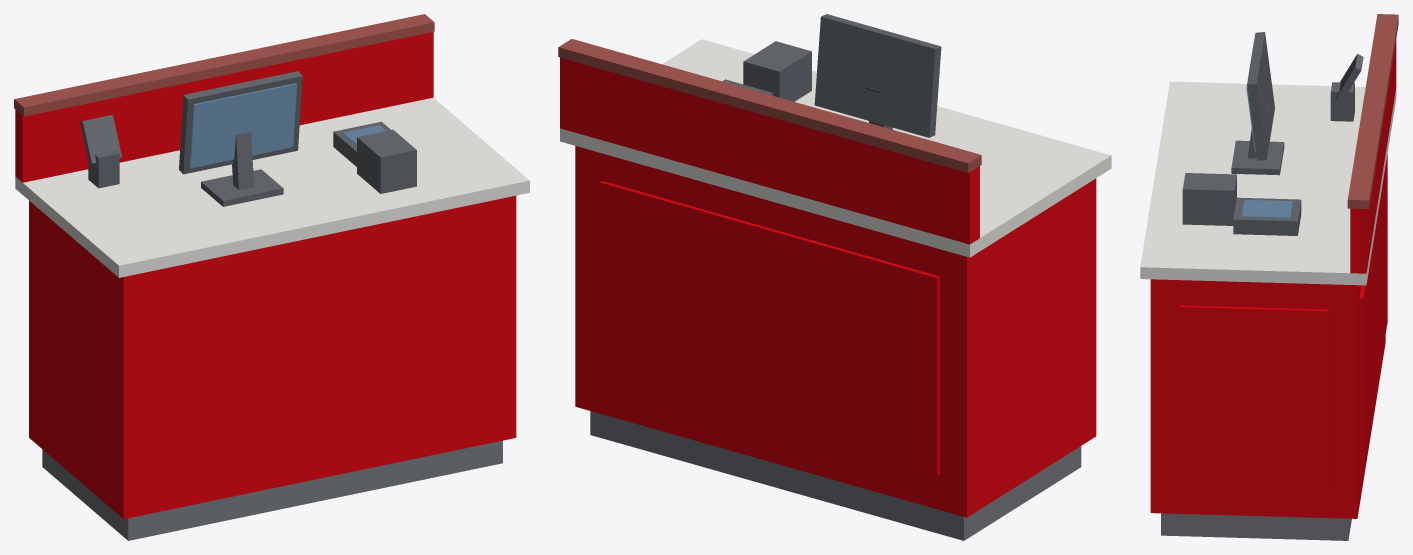
Rendered from cashier_counter_red.glb.
3 views of the same model, side by side, from view 1: azimuth 30°, elevation 25°; view 2: azimuth 150°, elevation 25°; view 3: azimuth 270°, elevation 25° (orthographic). The views are drawn at different scales.
Visible parts, largest first — view 1: cabinet, countertop, ledge, kick, ledge_cap, mon_screen, printer, mon_back, mon_base, cr_pad, mon_neck, cr_post (+1 smaller); view 2: cabinet, panel_front, ledge, countertop, kick, mon_back, ledge_cap, printer; view 3: countertop, panel_left, cabinet, panel_front, ledge_cap, kick, printer, ledge, mon_back, scanner, mon_base, scanner_glass (+2 smaller).
Boxes of the visible parts, x1,y1,x2,y2 form: cabinet: [29, 195, 516, 518]; countertop: [15, 97, 529, 277]; ledge: [15, 32, 433, 182]; kick: [42, 440, 502, 540]; ledge_cap: [14, 14, 434, 116]; mon_screen: [189, 83, 296, 168]; printer: [357, 129, 416, 193]; mon_back: [179, 71, 302, 174]; mon_base: [201, 169, 283, 206]; cr_pad: [80, 115, 121, 164]; mon_neck: [232, 132, 254, 190]; cr_post: [88, 150, 119, 188]; cabinet: [575, 146, 1096, 517]; panel_front: [600, 181, 939, 475]; ledge: [560, 57, 979, 244]; countertop: [560, 39, 1111, 257]; kick: [590, 411, 1081, 540]; mon_back: [814, 14, 941, 137]; ledge_cap: [558, 39, 981, 172]; printer: [743, 41, 811, 101]; countertop: [1140, 81, 1396, 285]; panel_left: [1179, 305, 1328, 487]; cabinet: [1150, 279, 1385, 518]; panel_front: [1359, 154, 1387, 474]; ledge_cap: [1347, 14, 1398, 209]; kick: [1161, 513, 1351, 540]; printer: [1182, 173, 1236, 225]; ledge: [1350, 40, 1396, 273]; mon_back: [1247, 32, 1274, 160]; scanner: [1233, 197, 1301, 235]; mon_base: [1231, 140, 1284, 175]; scanner_glass: [1241, 199, 1292, 218].
Size of the model in its own units: 1.4 by 1.29 by 0.798.
